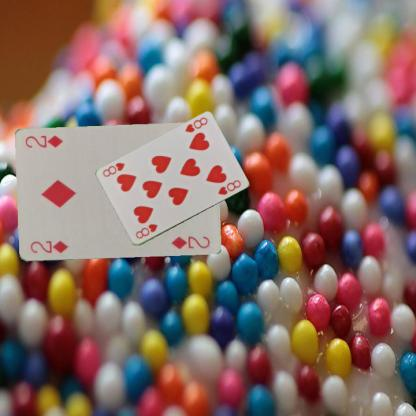2d: (27, 238, 69, 255)
8h: (182, 115, 209, 134), (133, 222, 159, 240)
